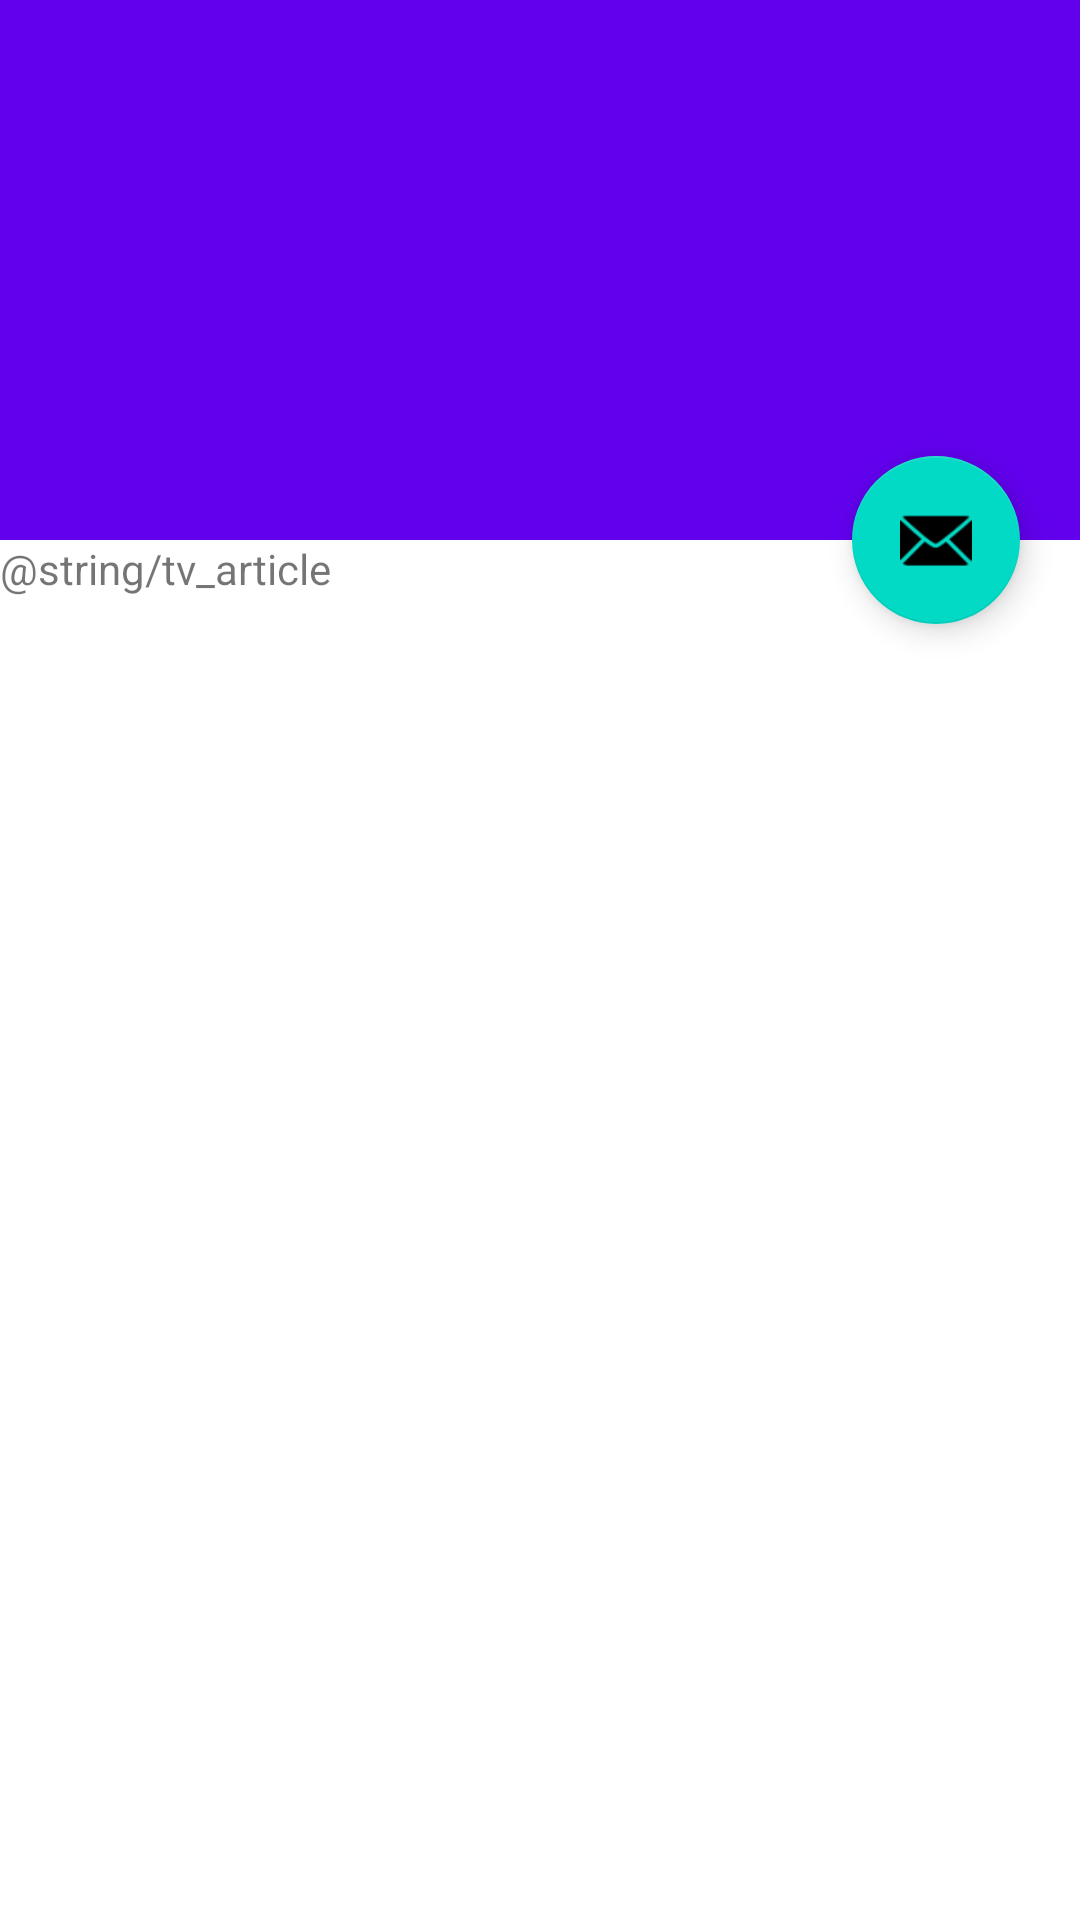

Icons on this 1080 x 1920 Android screen, each with the point to tap as [x,y]:
email: [936,540]
